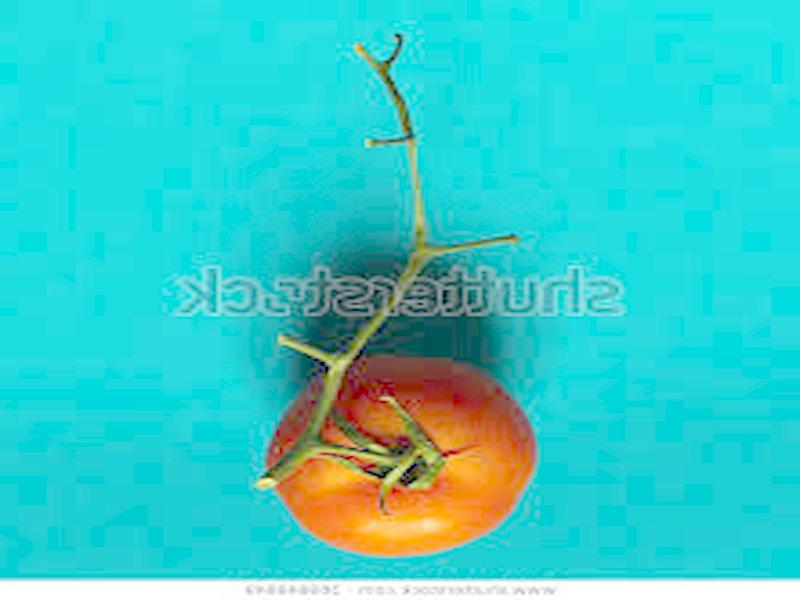Tomato: (263, 361, 535, 553)
